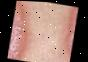plaque psoriasis: (7, 0, 34, 61)
